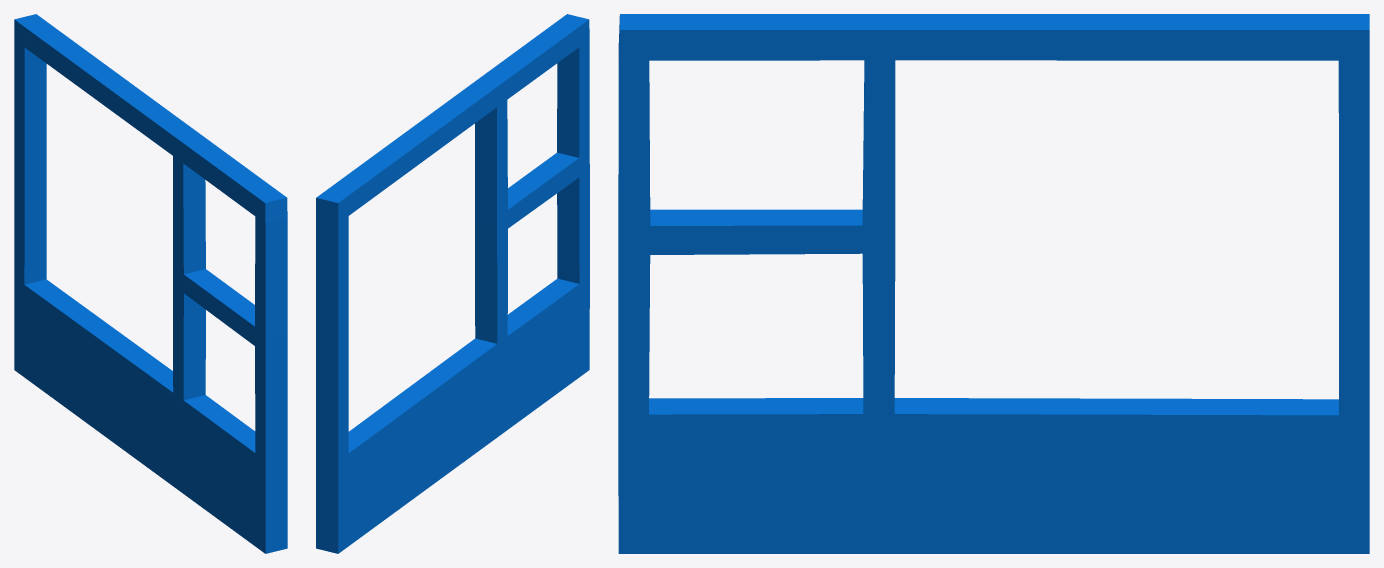
Rendered from MainFloorWindowWall.fbx.
The picture shows the model from 3 angles, left to right: view 1: azimuth 30°, elevation 25°; view 2: azimuth 150°, elevation 25°; view 3: azimuth 270°, elevation 25°; orthographic projection. The views are drawn at different scales.
Parts seen in each view (by area): view 1: pCube25; view 2: pCube25; view 3: pCube25.
Part boxes in pixels (x1,y1,x2,y2): pCube25: [14, 14, 287, 553]; pCube25: [316, 14, 589, 553]; pCube25: [618, 14, 1369, 553].
Bounding box in the file's own units: 0.3087 × 4.68 × 6.08.
